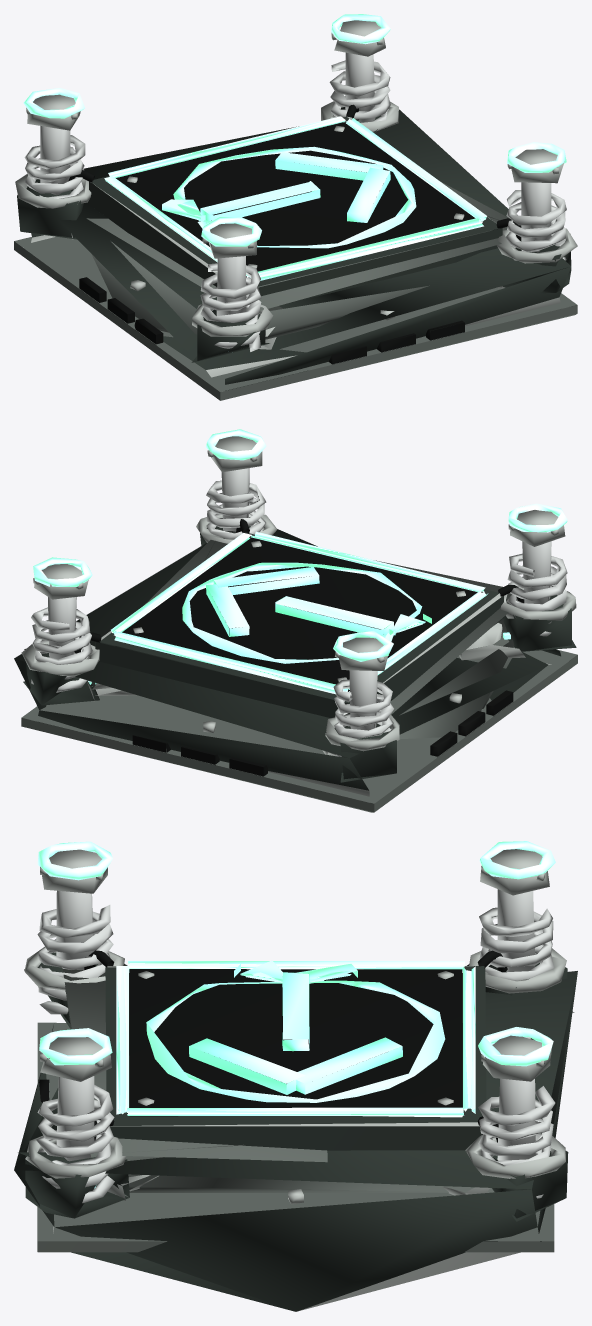
Rendered from jump.glb.
3 renders of one model, top to bottom at view 1: azimuth 30°, elevation 25°; view 2: azimuth 150°, elevation 25°; view 3: azimuth 270°, elevation 25°, orthographic. The views are drawn at different scales.
Visible parts, largest first — view 1: bastidor, placa_piso, bastidor_labio, cubierta, placa, placa_aro, piston_muelle_2, placa_borde_4, piston_muelle_4, piston_muelle_1, piston_muelle_3, flecha_vastago (+25 smaller); view 2: bastidor, placa_piso, bastidor_labio, placa, cubierta, placa_aro, piston_muelle_3, piston_muelle_2, placa_borde_3, piston_muelle_1, piston_muelle_4, flecha_vastago (+25 smaller); view 3: bastidor, placa_piso, placa, bastidor_labio, cubierta, placa_aro, piston_muelle_4, piston_muelle_2, piston_muelle_3, piston_muelle_1, piston_carcasa_4, placa_borde_2 (+25 smaller).
Boxes of the visible parts, bbox=[...] form: bastidor: bbox=[31, 109, 571, 391]; placa_piso: bbox=[116, 122, 475, 278]; bastidor_labio: bbox=[14, 236, 577, 400]; cubierta: bbox=[86, 181, 521, 339]; placa: bbox=[89, 116, 502, 304]; placa_aro: bbox=[173, 146, 416, 248]; piston_muelle_2: bbox=[200, 263, 261, 351]; placa_borde_4: bbox=[246, 217, 483, 280]; piston_muelle_4: bbox=[505, 190, 566, 260]; piston_muelle_1: bbox=[24, 135, 85, 198]; piston_muelle_3: bbox=[329, 60, 390, 121]; flecha_vastago: bbox=[200, 181, 320, 221]; bastidor: bbox=[14, 529, 560, 803]; placa_piso: bbox=[122, 537, 477, 691]; bastidor_labio: bbox=[21, 649, 577, 812]; placa: bbox=[95, 532, 503, 717]; cubierta: bbox=[91, 529, 517, 739]; placa_aro: bbox=[182, 562, 422, 663]; piston_muelle_3: bbox=[31, 607, 92, 692]; piston_muelle_2: bbox=[507, 553, 567, 636]; placa_borde_3: bbox=[114, 631, 348, 694]; piston_muelle_1: bbox=[333, 679, 393, 756]; piston_muelle_4: bbox=[206, 480, 266, 538]; flecha_vastago: bbox=[275, 596, 393, 635]; bastidor: bbox=[14, 971, 577, 1311]; placa_piso: bbox=[129, 969, 462, 1116]; placa: bbox=[105, 966, 486, 1150]; bastidor_labio: bbox=[37, 1022, 554, 1252]; cubierta: bbox=[62, 969, 494, 1192]; placa_aro: bbox=[146, 980, 445, 1102]; piston_muelle_4: bbox=[36, 1085, 114, 1203]; piston_muelle_2: bbox=[37, 905, 113, 1014]; piston_muelle_3: bbox=[478, 1086, 555, 1198]; piston_muelle_1: bbox=[479, 907, 554, 980]; piston_carcasa_4: bbox=[18, 1152, 129, 1218]; placa_borde_2: bbox=[127, 1107, 464, 1117].
Bounding box in the file's own units: 0.842 × 0.3895 × 0.8302.
